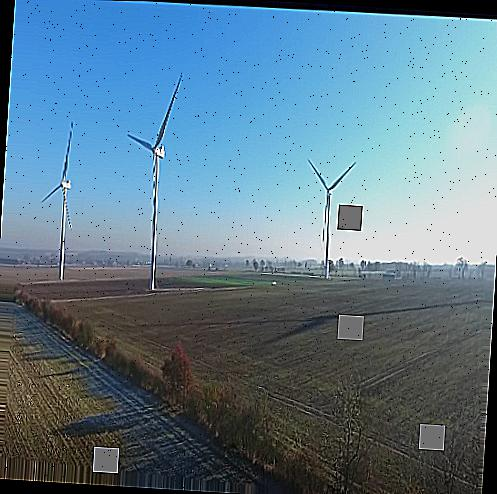wind turbine: (125, 71, 182, 294), (306, 158, 357, 281), (41, 122, 74, 283)
